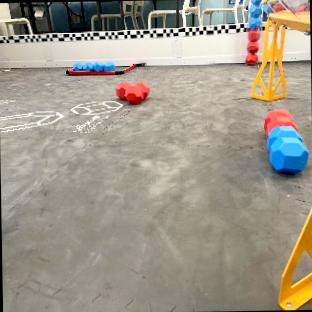Goal: (250, 0, 309, 101)
Parking-R: (66, 62, 145, 74)
V5_BLUE: (265, 108, 308, 171), (72, 61, 114, 70)
V5_RED: (265, 108, 295, 134), (116, 82, 149, 104)
